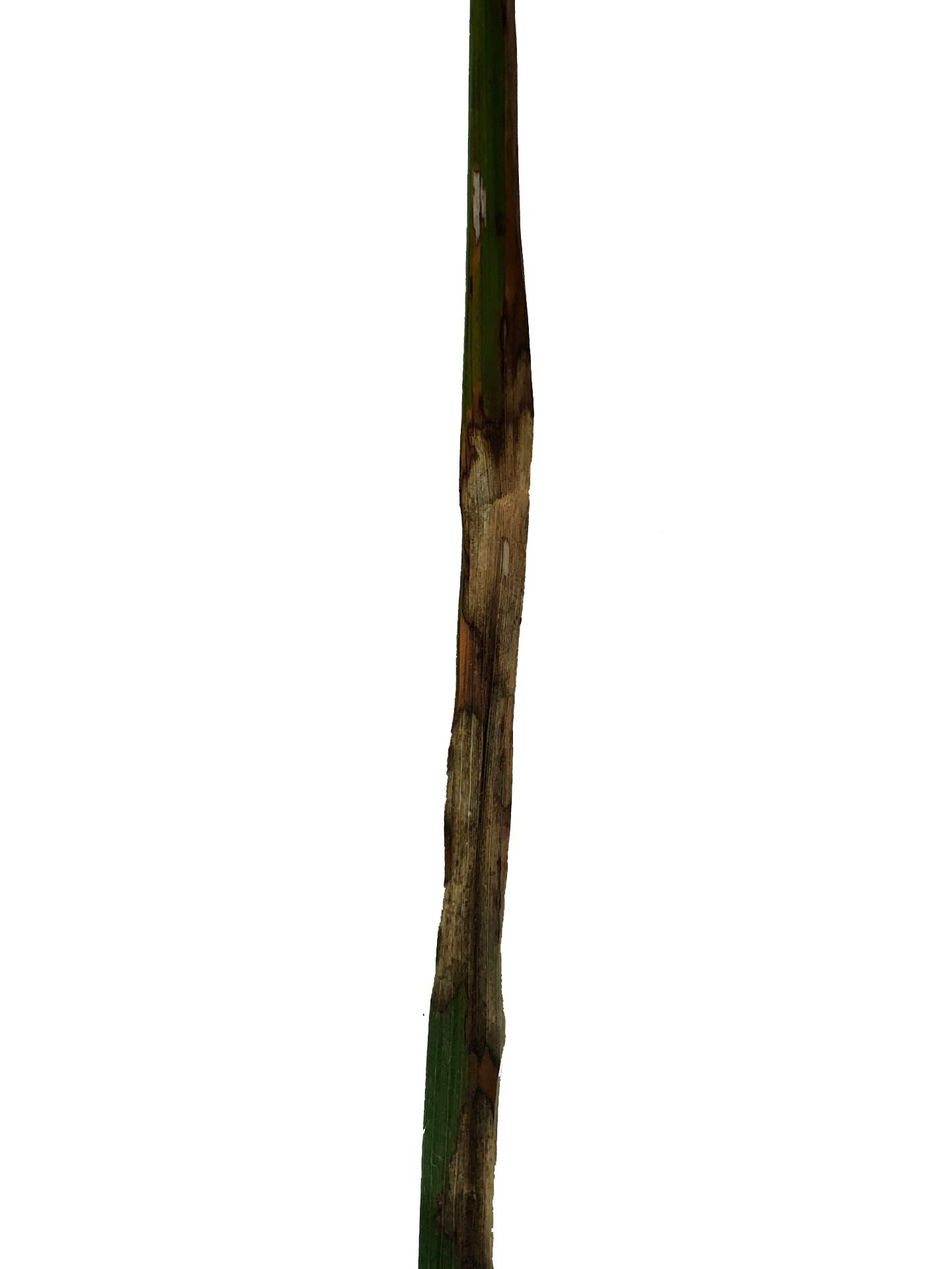Blight: (436, 661, 516, 995), (450, 370, 539, 658), (466, 1034, 516, 1252)
